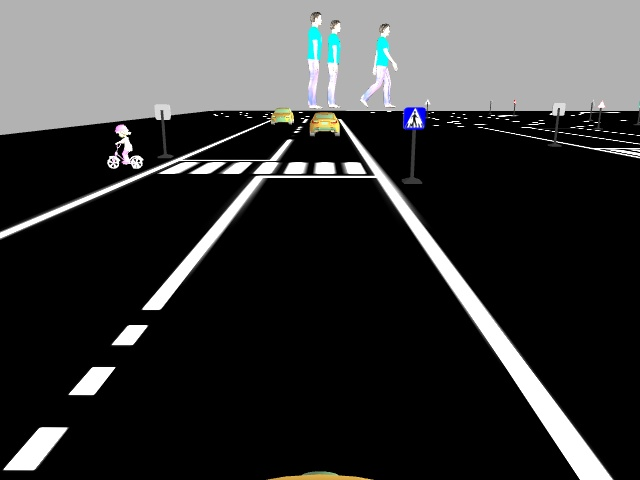Crosswalk: (402, 106, 426, 130)
Pedestrian: (106, 121, 145, 170)
